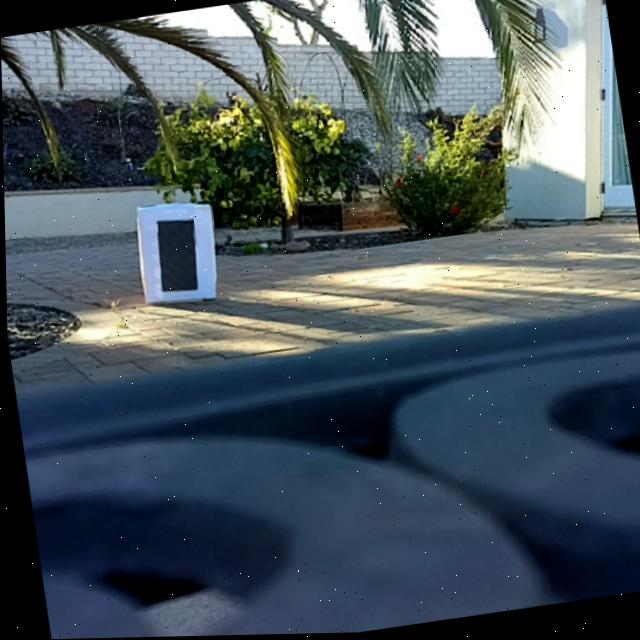led: (152, 218, 200, 294)
